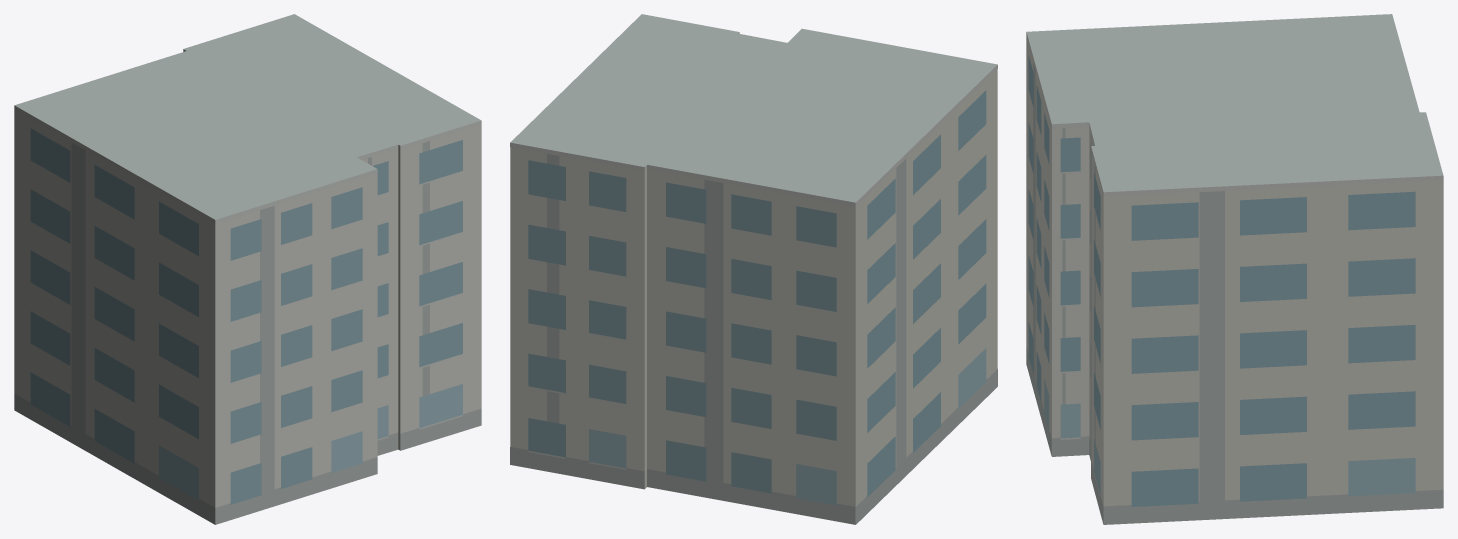
The model's file is survey-upis-32947442.glb.
The picture shows the model from 3 angles, left to right: view 1: azimuth 30°, elevation 25°; view 2: azimuth 150°, elevation 25°; view 3: azimuth 270°, elevation 25°; orthographic projection. The views are drawn at different scales.
Visible parts, largest first — view 1: survey-upis-32947442.tmp; view 2: survey-upis-32947442.tmp; view 3: survey-upis-32947442.tmp.
Boxes of the visible parts, x1,y1,x2,y2 form: survey-upis-32947442.tmp: (14,14,481,524); survey-upis-32947442.tmp: (510,14,997,524); survey-upis-32947442.tmp: (1026,14,1443,524).
Size of the model in its own units: 19.78 by 17.2 by 19.56.
